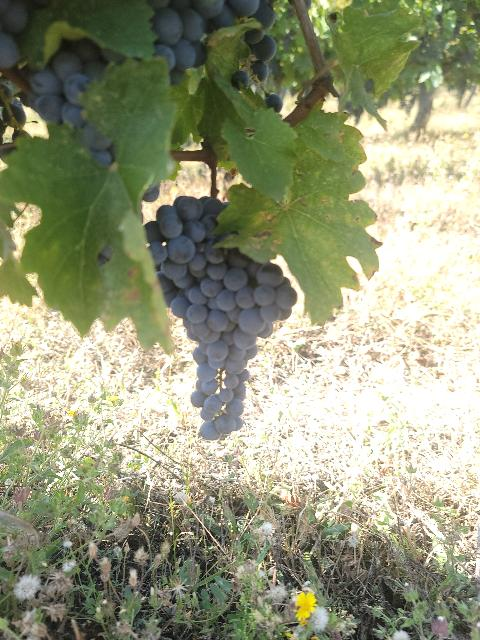grapes: (144, 196, 298, 440)
